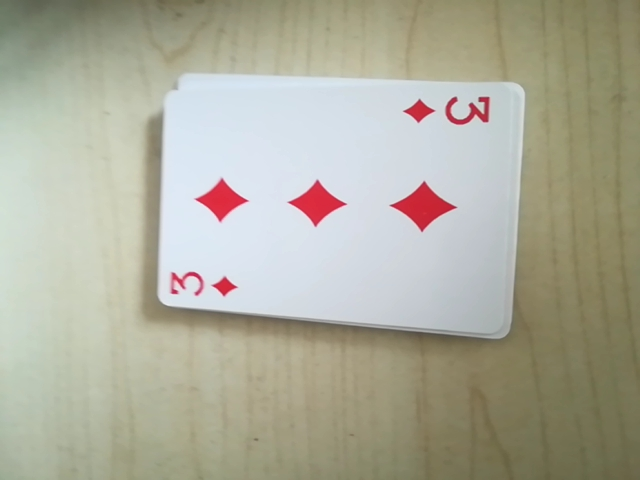fk 3: (397, 87, 500, 135), (164, 261, 247, 303)
